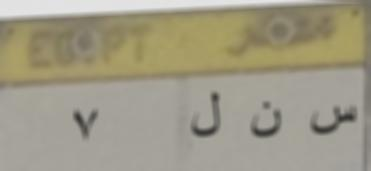7: (68, 98, 105, 151)
laam: (188, 86, 230, 144)
noon: (248, 100, 286, 150)
seen: (304, 96, 358, 146)
